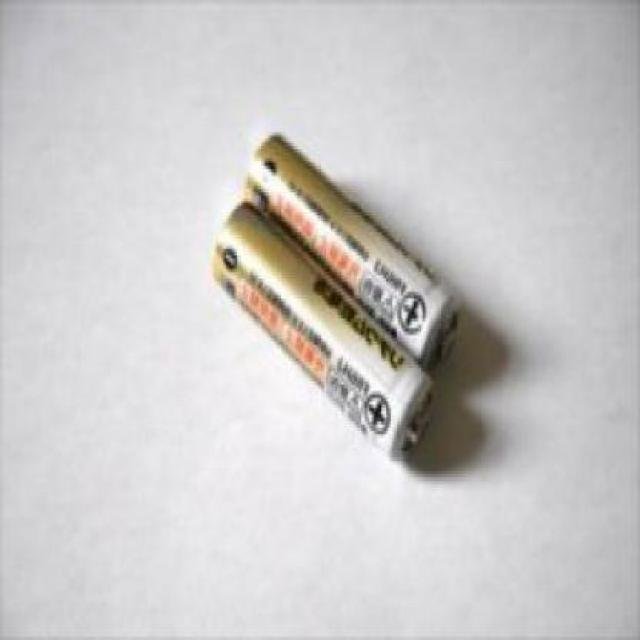hazardous waste: (210, 205, 442, 468), (236, 126, 462, 386)
